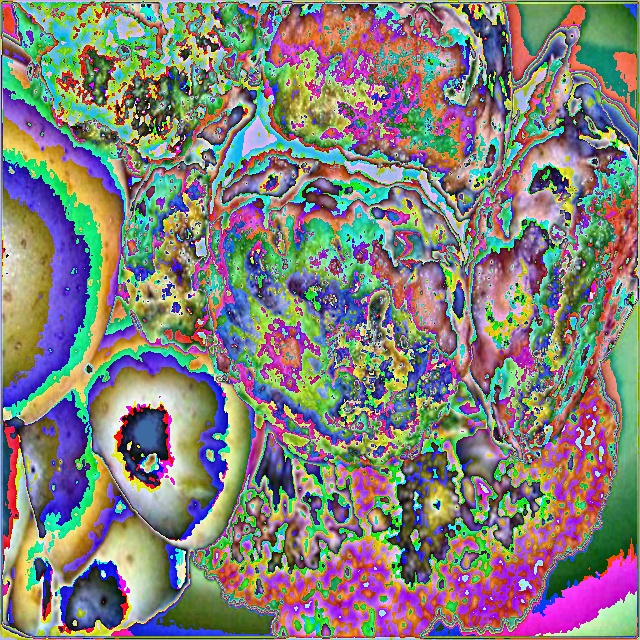background: (2, 2, 638, 638)
